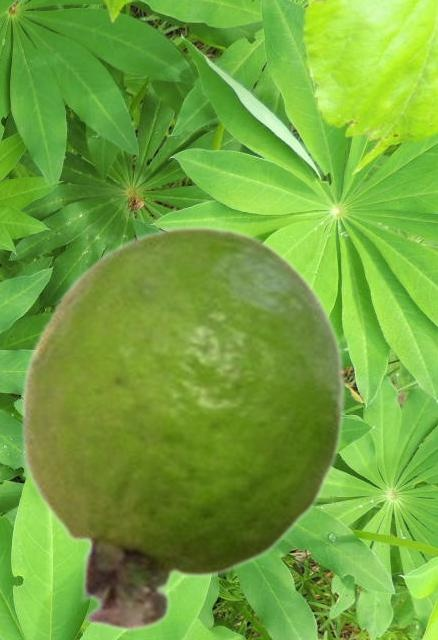guava: (20, 223, 346, 632)
